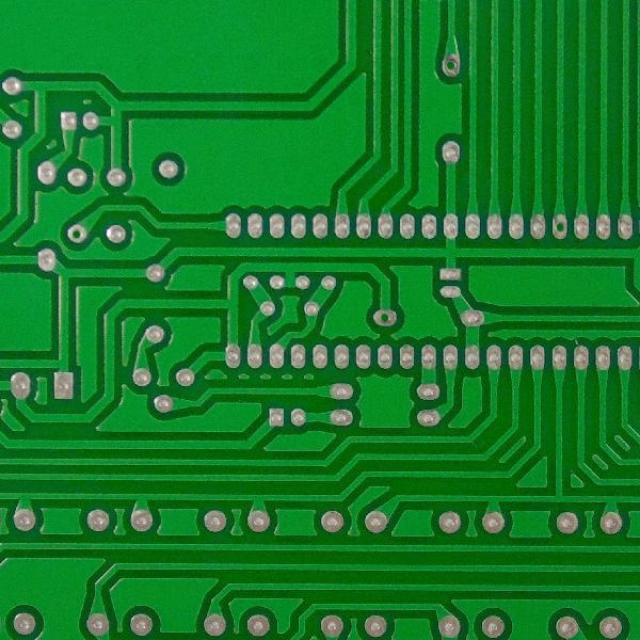missing_hole: (441, 52, 464, 78), (549, 214, 572, 240), (373, 307, 398, 329), (68, 224, 89, 246)
